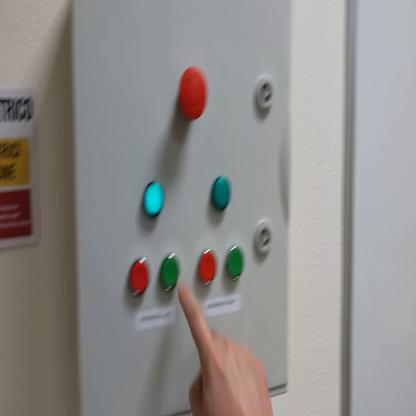hand: (178, 279, 275, 413)
left green button: (160, 255, 182, 294)
left red button: (127, 259, 151, 299)
right green button: (226, 247, 246, 283)
right red button: (197, 250, 218, 288)
